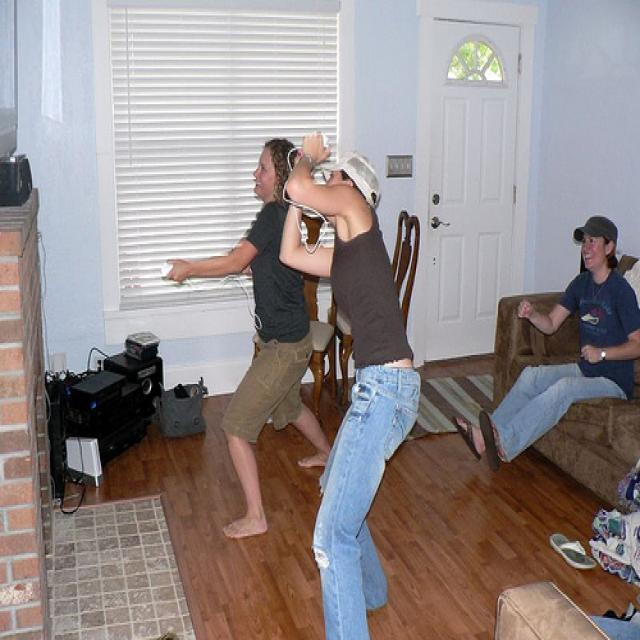non-dog: (282, 130, 421, 639), (162, 138, 330, 542), (455, 214, 640, 464)
